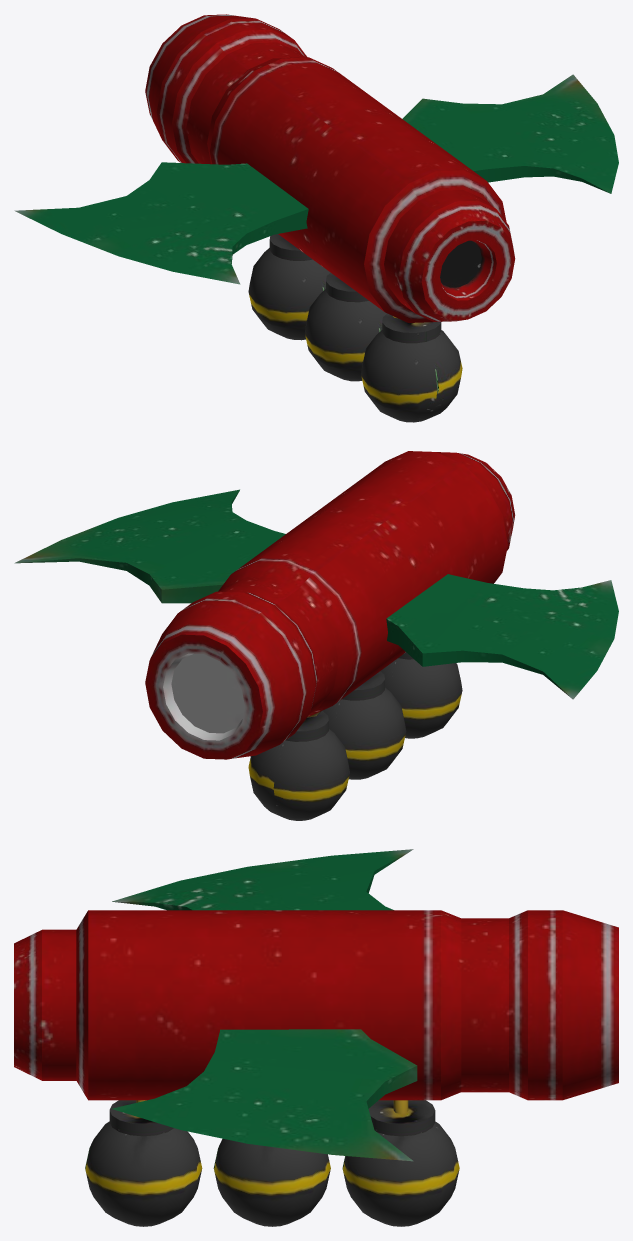
File: 글라이더.FBX
3 views of the same model, one above another, from view 1: azimuth 30°, elevation 25°; view 2: azimuth 150°, elevation 25°; view 3: azimuth 270°, elevation 25° (orthographic). The views are drawn at different scales.
Visible parts, largest first — view 1: Glider_Goblin; view 2: Glider_Goblin; view 3: Glider_Goblin.
Boxes of the visible parts, <box> form: Glider_Goblin: <box>14,14,618,422</box>; Glider_Goblin: <box>14,451,618,820</box>; Glider_Goblin: <box>14,849,618,1226</box>.
Size of the model in its own units: 745 by 336 by 610.
